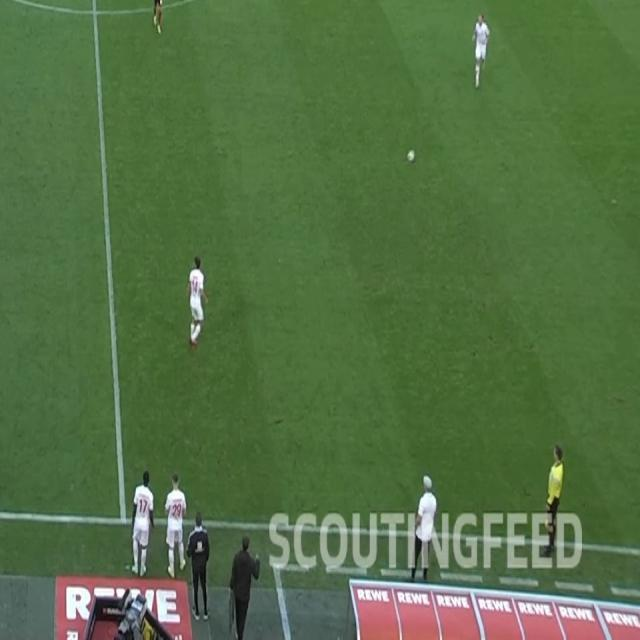ball: (407, 148, 416, 164)
